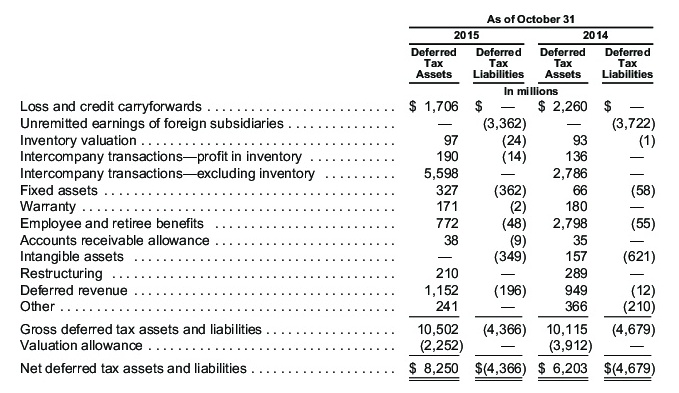table: (0, 0, 679, 393)
